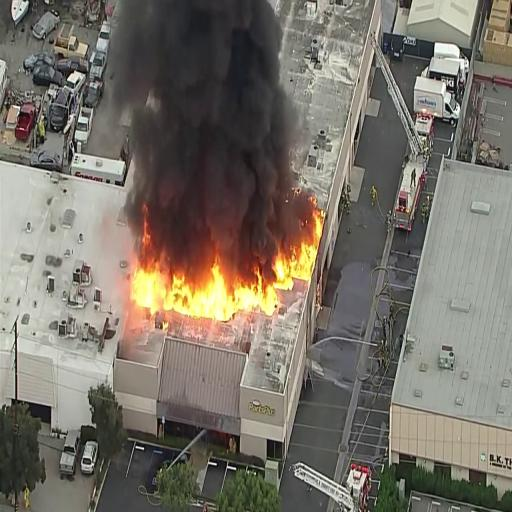fire: (168, 251, 229, 335), (130, 196, 168, 314), (282, 203, 317, 288), (236, 257, 282, 316)
smoke: (132, 0, 299, 240)
